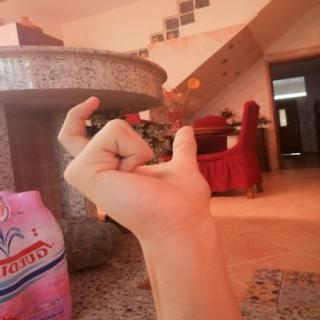NOON: (45, 87, 224, 251)
